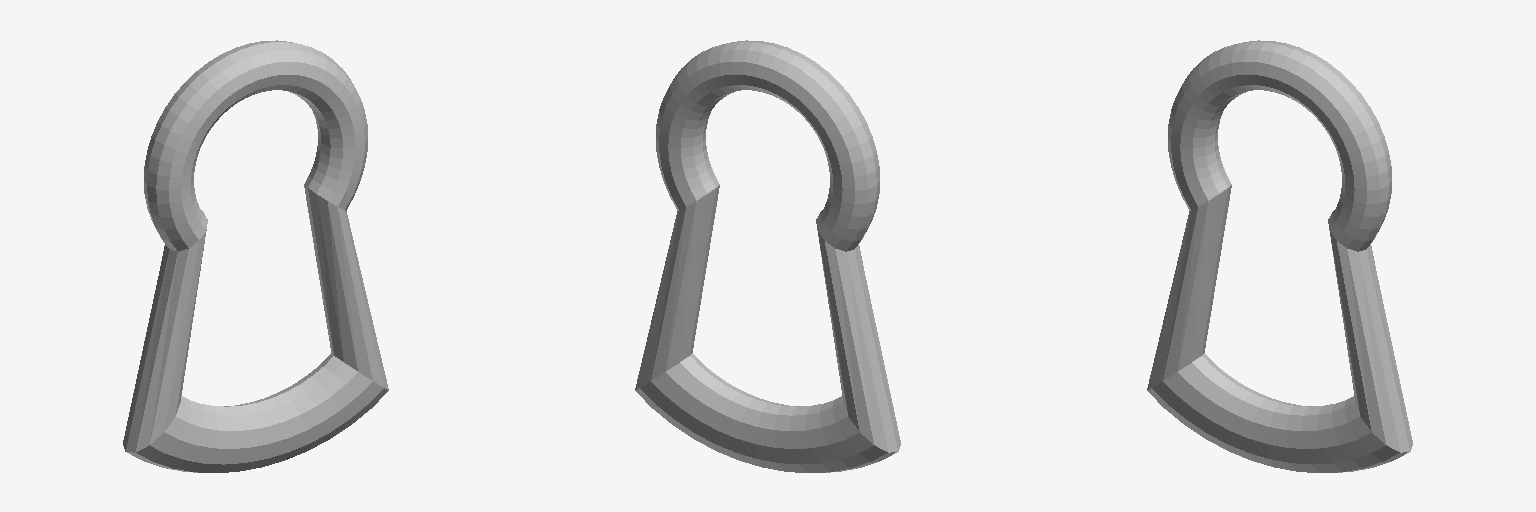
The model's file is keyhole.obj.
3 renders of one model, left to right at view 1: azimuth 30°, elevation 25°; view 2: azimuth 150°, elevation 25°; view 3: azimuth 330°, elevation 25°, orthographic.
Visible parts, largest first — view 1: GoldKeyHole4_Torus.003; view 2: GoldKeyHole4_Torus.003; view 3: GoldKeyHole4_Torus.003.
Part boxes in pixels (left/top/right/bottom): GoldKeyHole4_Torus.003: left=123, top=40, right=388, bottom=472; GoldKeyHole4_Torus.003: left=635, top=40, right=900, bottom=472; GoldKeyHole4_Torus.003: left=1147, top=40, right=1412, bottom=472.
Size of the model in its own units: 0.0701 by 0.1084 by 0.0117.